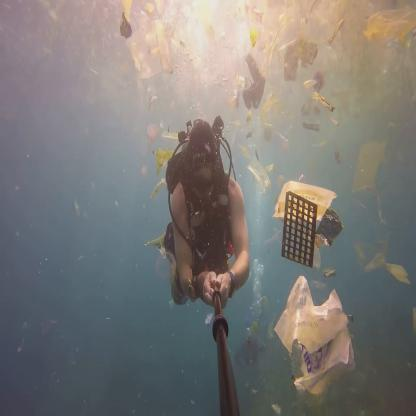Rác: (278, 283, 364, 365), (280, 175, 322, 282), (363, 4, 414, 55), (278, 177, 329, 219), (282, 30, 324, 78), (126, 26, 168, 70), (244, 53, 271, 116), (356, 139, 386, 194), (370, 249, 408, 282), (246, 150, 268, 196), (257, 98, 282, 132), (251, 0, 283, 24), (326, 18, 348, 46), (122, 0, 140, 23), (314, 92, 334, 110), (306, 76, 318, 96)
